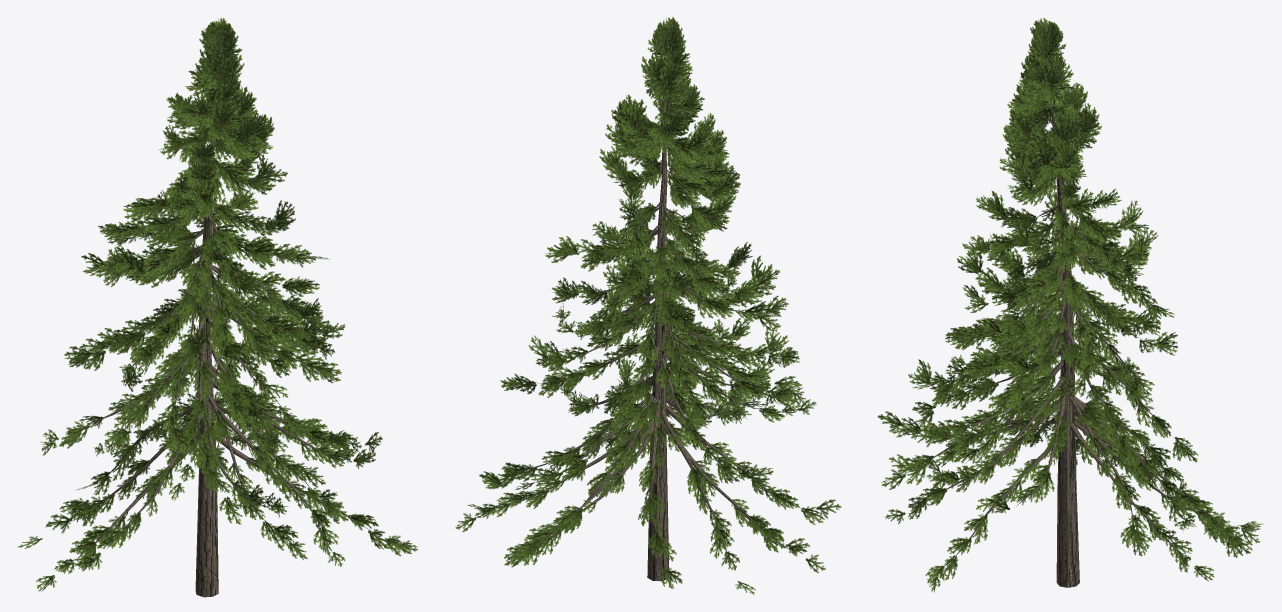
The model's file is pino_grande_1.glb.
3 views of the same model, side by side, from view 1: azimuth 30°, elevation 25°; view 2: azimuth 150°, elevation 25°; view 3: azimuth 270°, elevation 25° (orthographic). The views are drawn at different scales.
Visible parts, largest first — view 1: pino_grande_1_hojas, pino_grande_1_ramas; view 2: pino_grande_1_hojas, pino_grande_1_ramas; view 3: pino_grande_1_hojas, pino_grande_1_ramas.
Boxes of the visible parts, bbox=[...] form: pino_grande_1_hojas: bbox=[17, 18, 417, 591]; pino_grande_1_ramas: bbox=[63, 90, 378, 597]; pino_grande_1_hojas: bbox=[455, 17, 841, 594]; pino_grande_1_ramas: bbox=[507, 93, 802, 581]; pino_grande_1_hojas: bbox=[877, 18, 1263, 592]; pino_grande_1_ramas: bbox=[908, 98, 1202, 587].
Size of the model in its own units: 11.64 by 19.96 by 12.57.
2 materials, 2 textured.
